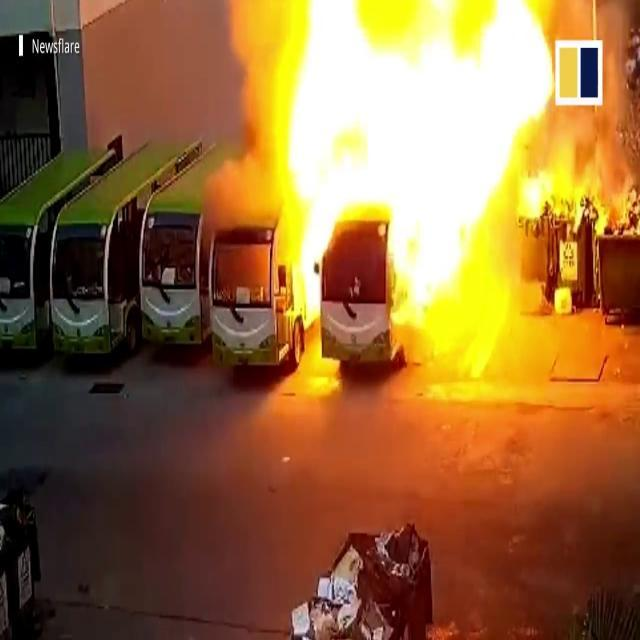Fire: (239, 0, 552, 372)
